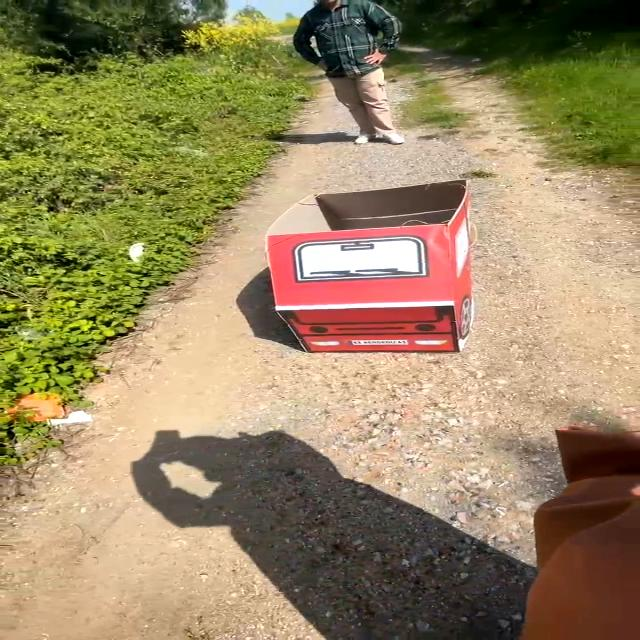red_car: (255, 167, 488, 374)
